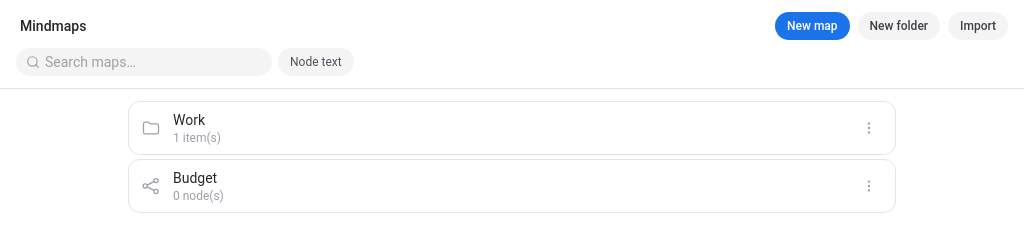
MindmapBrowser — search › with "Node text" on, also finds maps by a node, naming the node
Type "holiday" into the field named "Search mindmaps". click: (144, 62)
box: [16,48,272,76]
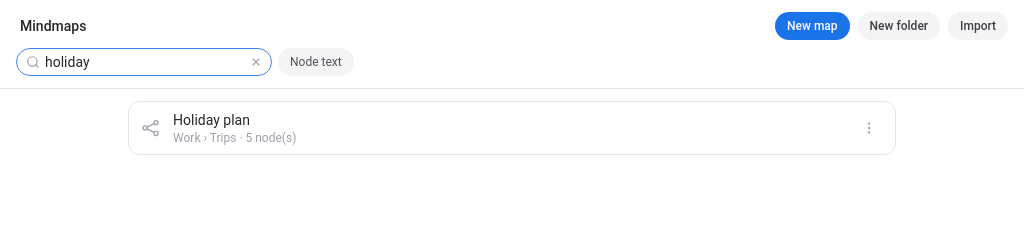
Click the button "Node text". click: (316, 62)
box: [278,48,354,76]
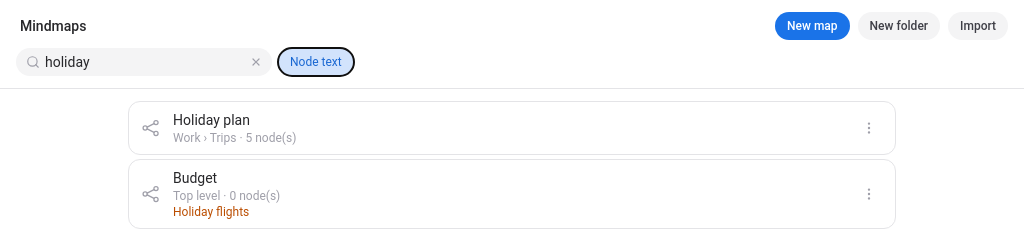
expect the text "Budget" is shown: met, box [173,170,217,186]
expect the text "Holiday flights" is shown: met, box [173,205,249,219]
